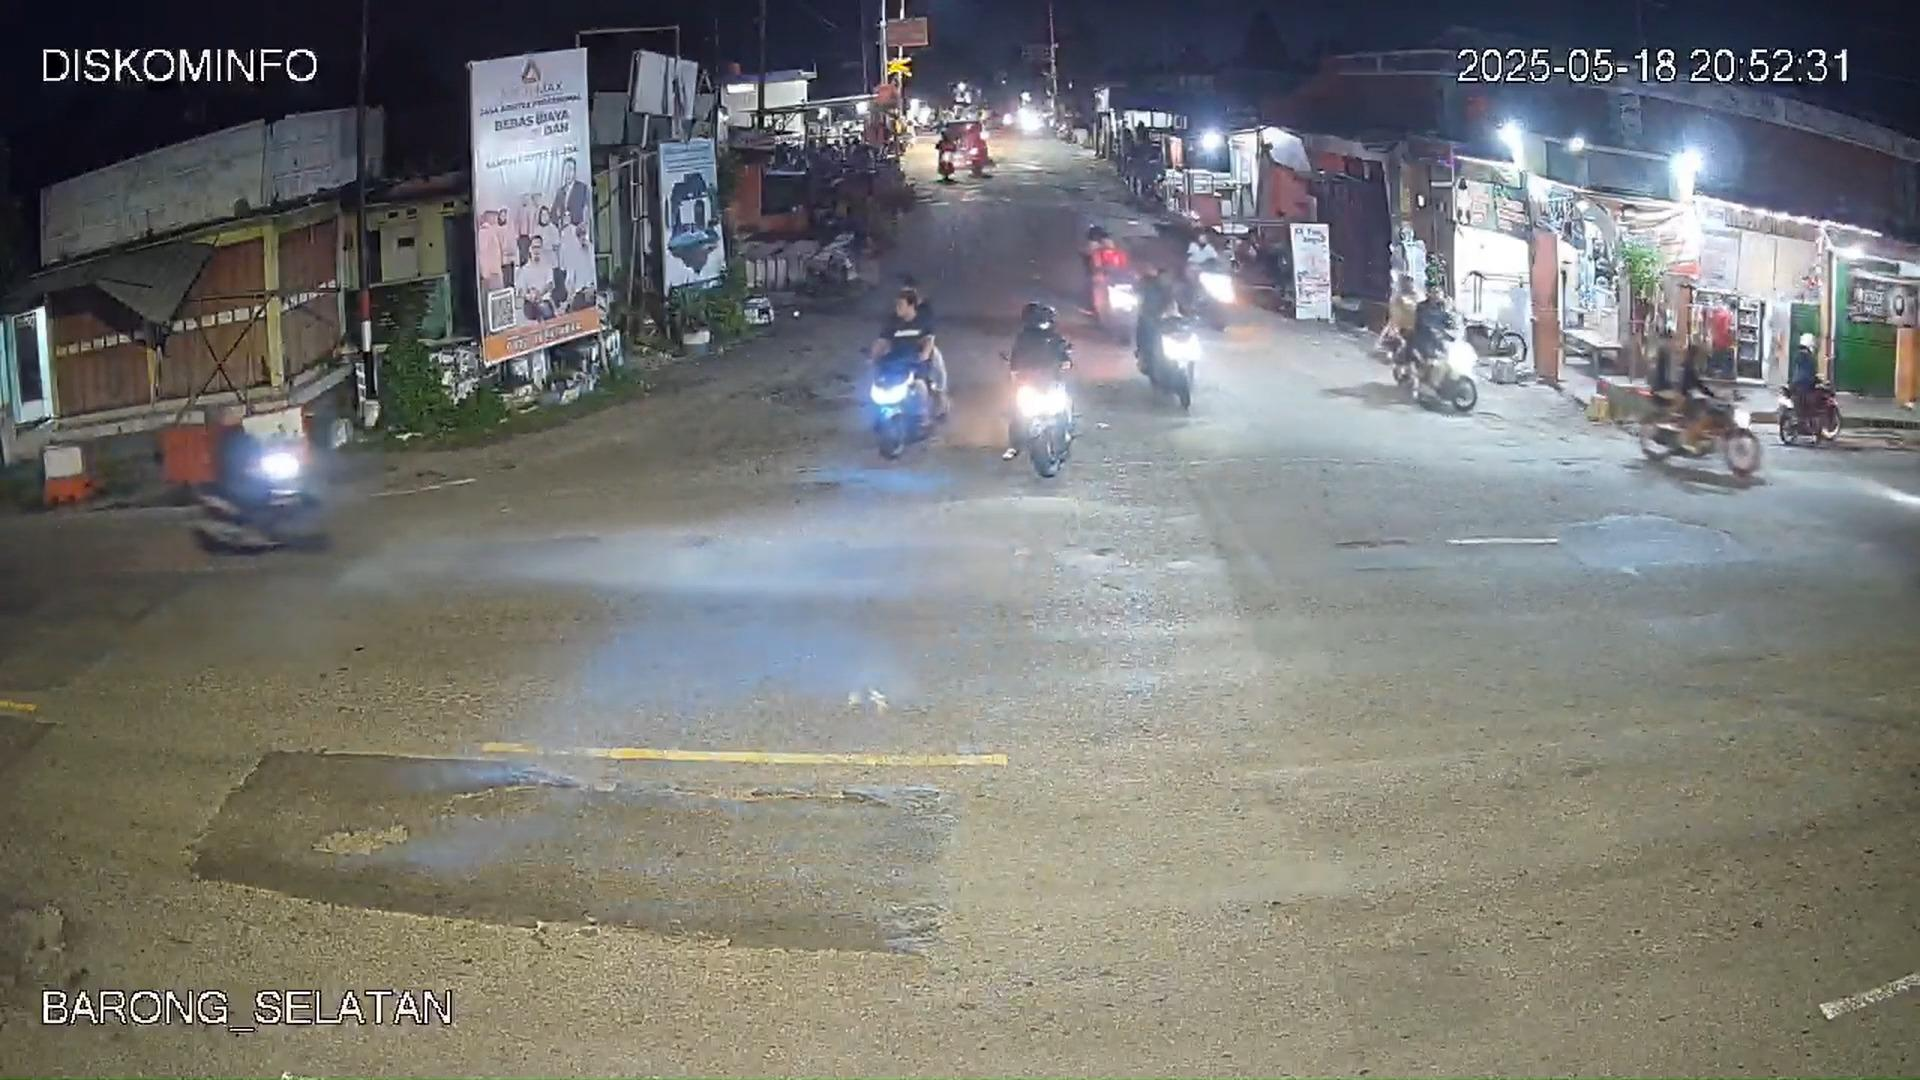Motor: (865, 316, 951, 465), (1130, 260, 1191, 401)
